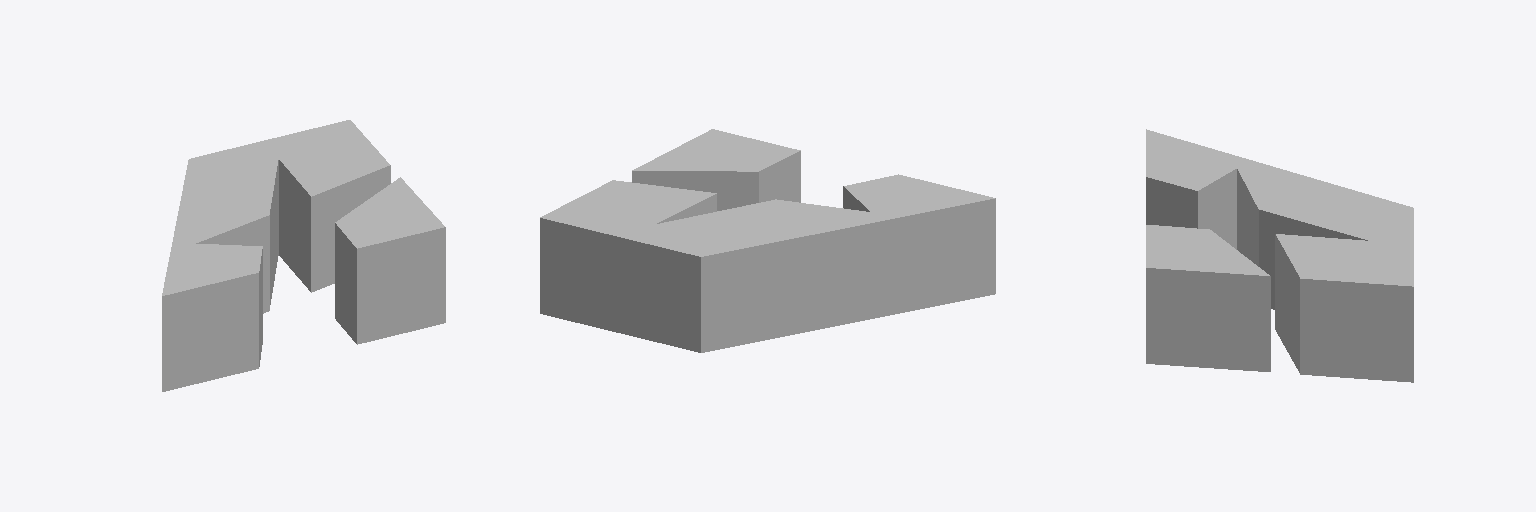
Rendered from asm_A.obj.
3 renders of one model, left to right at view 1: azimuth 30°, elevation 25°; view 2: azimuth 150°, elevation 25°; view 3: azimuth 270°, elevation 25°, orthographic.
Parts seen in each view (by area): view 1: Plane.002; view 2: Plane.002; view 3: Plane.002.
Boxes of the visible parts, x1=… form: Plane.002: x1=162, y1=120, x2=445, y2=391; Plane.002: x1=540, y1=129, x2=995, y2=352; Plane.002: x1=1146, y1=129, x2=1413, y2=382.
Size of the model in its own units: 0.3081 by 0.0877 by 0.2218.